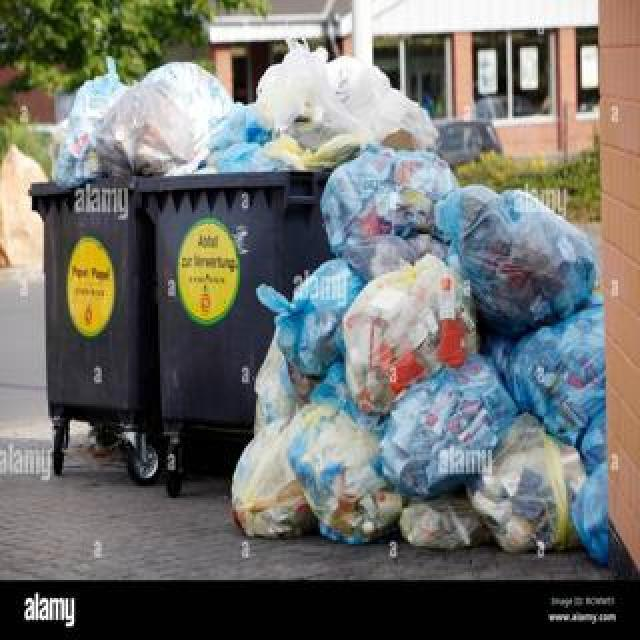high trash: (62, 45, 609, 562)
